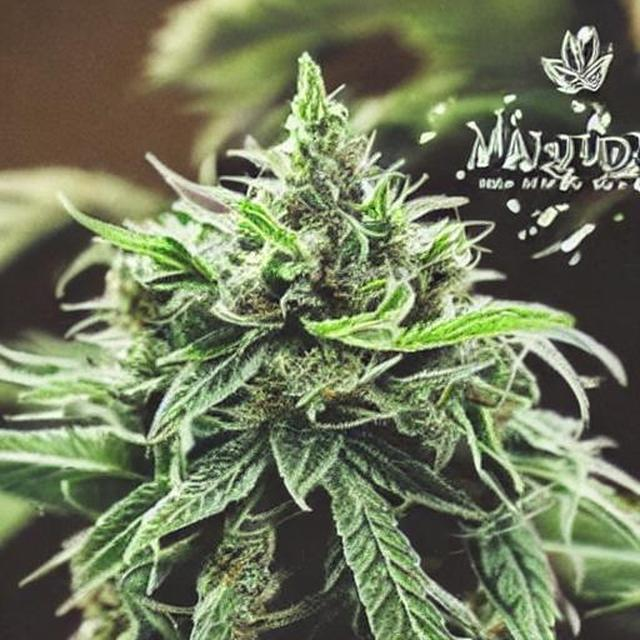Marijuana Plant: (73, 20, 518, 619)
